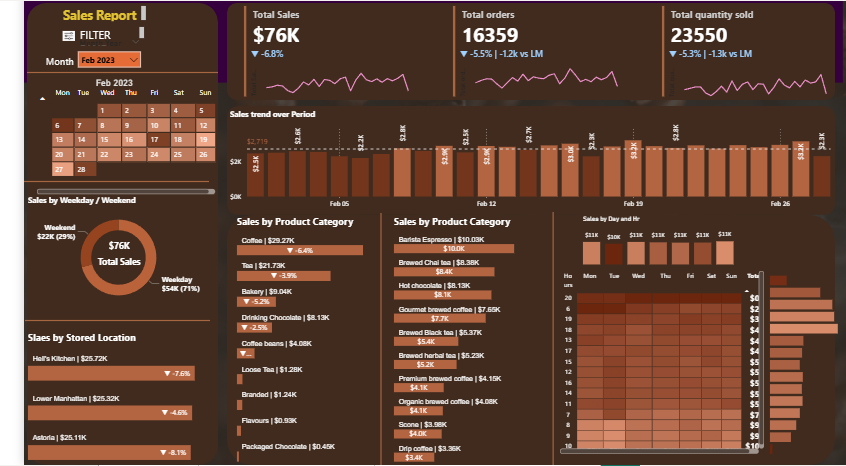

The dashboard page shown, as its layout file describes it:
{"tool":"powerbi","page":{"name":"Dashboard","canvas":[1400,850],"ordinal":0},"visuals":[{"type":"cardVisual","fields":{"Data":["Transactions Measures.Total Sales"]},"box":[368.9,64.6,299.2,164.9],"z":0,"group":"g1"},{"type":"cardVisual","fields":{"Data":["Transactions Measures.Total orders"]},"box":[724.2,64.6,299.2,164.9],"z":0,"group":"g2"},{"type":"cardVisual","fields":{"Data":["Transactions Measures.Total quantity sold"]},"box":[1079.5,64.6,299.2,164.9],"z":0,"group":"g3"},{"type":"shape","box":[345.1,425,1033.6,425],"z":0},{"type":"shape","box":[0,0,1392.3,200],"z":1000},{"type":"lineChart","fields":{"Y":["Transactions Measures.Total Sales"],"Category":["Date table.Date Hierarchy 2.Date"]},"box":[380.8,141.1,287.3,88.4],"z":1000,"group":"g1"},{"type":"lineChart","fields":{"Category":["Date table.Date Hierarchy 2.Date"],"Y":["Transactions Measures.Total orders"]},"box":[736.1,141.1,287.3,88.4],"z":1000,"group":"g2"},{"type":"lineChart","fields":{"Category":["Date table.Date Hierarchy 2.Date"],"Y":["Transactions Measures.Total quantity sold"]},"box":[1091.4,141.1,287.3,88.4],"z":1000,"group":"g3"},{"type":"shape","box":[5.1,64.6,324.7,785.4],"z":2000},{"type":"shape","box":[345.1,64.6,1033.6,164.9],"z":3000},{"type":"textbox","box":[35.7,0,334.9,49.3],"z":4000},{"type":"slicer","fields":{"Values":["Date table.Month Year"]},"box":[86.7,124.1,117.3,61.2],"z":5000},{"type":"group","id":"g1","title":"Group 1","box":[368.9,64.6,299.2,164.9],"z":6000},{"type":"group","id":"g2","title":"Group 1","box":[724.2,64.6,299.2,164.9],"z":7000},{"type":"group","id":"g3","title":"Group 1","box":[1079.5,64.6,299.2,164.9],"z":8000},{"type":"pivotTable","fields":{"Rows":["Date table.Week Number"],"Columns":["Date table.Day Name"],"Values":["Min(Date table.Day Numner)"]},"box":[17,200.6,312.8,193.8],"z":9000},{"type":"card","fields":{"Values":["Min(Date table.Month Year)"]},"box":[88.4,181.9,130.9,37.4],"z":10000},{"type":"shape","box":[5.1,164.9,324.7,35.7],"z":12000},{"type":"shape","box":[1.7,586.5,314.5,35.7],"z":13000},{"type":"donutChart","title":"Sales by Weekday / Weekend","fields":{"Y":["Transactions Measures.Total Sales"],"Category":["Date table.Weekday / Weekend"]},"box":[1.7,391,317.9,195.5],"z":14000},{"type":"card","fields":{"Values":["Transactions Measures.Total Sales"]},"box":[113.9,462.4,95.2,52.7],"z":15000},{"type":"shape","box":[0,350.2,314.5,35.7],"z":16000},{"type":"clusteredBarChart","title":"Slaes by Stored Location ","fields":{"Category":["Transactions.store_location"],"Y":["Transactions Measures.Placeholder","Transactions Measures.Total Sales"]},"box":[1.7,622.2,323,227.8],"z":17000},{"type":"shape","box":[345.1,239.7,1033.6,185.3],"z":18000},{"type":"columnChart","title":"Sales trend over Period","fields":{"Y":["Transactions Measures.Total Sales"],"Category":["Transactions.transaction_date"]},"box":[345.1,244.8,1033.6,176.8],"z":19000},{"type":"clusteredBarChart","title":"Sales by Product Category","fields":{"Y":["Transactions Measures.Placeholder","Transactions Measures.Total Sales"],"Category":["Transactions.product_category"]},"box":[357,425,249.9,425],"z":20000},{"type":"shape","box":[581.4,421.6,51,428.4],"z":21000},{"type":"clusteredBarChart","title":"Sales by Product Category","fields":{"Y":["Transactions Measures.Placeholder","Transactions Measures.Total Sales"],"Category":["Transactions.product_type"]},"box":[623.9,425,249.9,425],"z":22000},{"type":"shape","box":[874.5,420.7,51.4,429.9],"z":23000},{"type":"pivotTable","fields":{"Rows":["Transactions.Hours"],"Columns":["Date table.Day Name"],"Values":["Transactions Measures.Total Sales"]},"box":[906.1,515.1,357,321.3],"z":24000},{"type":"clusteredBarChart","fields":{"Category":["Transactions.Hours"],"Y":["Transactions Measures.Total Sales"]},"box":[1263.1,515.1,129.2,321.3],"z":24001},{"type":"columnChart","title":"Sales by Day and Hr","fields":{"Category":["Date table.Day Name"],"Y":["Transactions Measures.Total Sales"]},"box":[945.2,425,266.9,90.1],"z":24002},{"type":"textbox","box":[17,147.9,88.4,40.8],"z":24003},{"type":"textbox","box":[61.2,64.6,151.3,35.7],"z":24004},{"type":"textbox","box":[90.1,100.3,119,40.8],"z":24005},{"type":"image","box":[47.6,107.1,57.8,27.2],"z":24006},{"type":"actionButton","box":[0,0,100,40],"z":24007}]}

Visuals, with their boxes on the page's 1400x850 design canvas (x1, y1, x2, y2). These are canvas units, not pixel positions in the 846x466 screenshot, which may show the page scaled, cropped or inside an application window:
cardVisual - Transactions Measures.Total Sales: [left=369, top=65, right=668, bottom=230]
cardVisual - Transactions Measures.Total orders: [left=724, top=65, right=1023, bottom=230]
cardVisual - Transactions Measures.Total quantity sold: [left=1080, top=65, right=1379, bottom=230]
shape: [left=345, top=425, right=1379, bottom=850]
shape: [left=0, top=0, right=1392, bottom=200]
lineChart - Transactions Measures.Total Sales x Date table.Date Hierarchy 2.Date: [left=381, top=141, right=668, bottom=230]
lineChart - Date table.Date Hierarchy 2.Date x Transactions Measures.Total orders: [left=736, top=141, right=1023, bottom=230]
lineChart - Date table.Date Hierarchy 2.Date x Transactions Measures.Total quantity sold: [left=1091, top=141, right=1379, bottom=230]
shape: [left=5, top=65, right=330, bottom=850]
shape: [left=345, top=65, right=1379, bottom=230]
textbox: [left=36, top=0, right=371, bottom=49]
slicer - Date table.Month Year: [left=87, top=124, right=204, bottom=185]
"Group 1" group: [left=369, top=65, right=668, bottom=230]
"Group 1" group: [left=724, top=65, right=1023, bottom=230]
"Group 1" group: [left=1080, top=65, right=1379, bottom=230]
pivotTable - Date table.Week Number x Date table.Day Name: [left=17, top=201, right=330, bottom=394]
card - Min(Date table.Month Year): [left=88, top=182, right=219, bottom=219]
shape: [left=5, top=165, right=330, bottom=201]
shape: [left=2, top=586, right=316, bottom=622]
"Sales by Weekday / Weekend" donutChart: [left=2, top=391, right=320, bottom=586]
card - Transactions Measures.Total Sales: [left=114, top=462, right=209, bottom=515]
shape: [left=0, top=350, right=314, bottom=386]
"Slaes by Stored Location " clusteredBarChart: [left=2, top=622, right=325, bottom=850]
shape: [left=345, top=240, right=1379, bottom=425]
"Sales trend over Period" columnChart: [left=345, top=245, right=1379, bottom=422]
"Sales by Product Category" clusteredBarChart: [left=357, top=425, right=607, bottom=850]
shape: [left=581, top=422, right=632, bottom=850]
"Sales by Product Category" clusteredBarChart: [left=624, top=425, right=874, bottom=850]
shape: [left=874, top=421, right=926, bottom=851]
pivotTable - Transactions.Hours x Date table.Day Name: [left=906, top=515, right=1263, bottom=836]
clusteredBarChart - Transactions.Hours x Transactions Measures.Total Sales: [left=1263, top=515, right=1392, bottom=836]
"Sales by Day and Hr" columnChart: [left=945, top=425, right=1212, bottom=515]
textbox: [left=17, top=148, right=105, bottom=189]
textbox: [left=61, top=65, right=212, bottom=100]
textbox: [left=90, top=100, right=209, bottom=141]
image: [left=48, top=107, right=105, bottom=134]
actionButton: [left=0, top=0, right=100, bottom=40]
